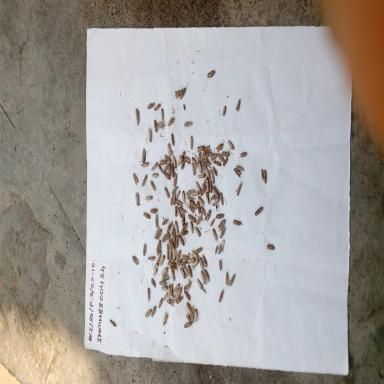pbw: (228, 270, 237, 290), (142, 208, 153, 224), (147, 125, 155, 147), (182, 118, 194, 132), (171, 278, 180, 296), (165, 116, 175, 132), (162, 309, 169, 331), (192, 224, 202, 239), (236, 180, 244, 198), (186, 213, 198, 225), (204, 208, 213, 224), (148, 275, 158, 289), (140, 160, 150, 174), (191, 248, 201, 262), (172, 155, 180, 172), (134, 190, 142, 207), (175, 154, 184, 169), (182, 279, 191, 294), (195, 178, 204, 193), (192, 305, 199, 324), (232, 216, 243, 228), (148, 178, 158, 191), (202, 142, 212, 155), (131, 253, 141, 266), (182, 151, 192, 164), (168, 130, 176, 146), (180, 220, 188, 236), (163, 185, 171, 201), (204, 190, 212, 206), (140, 172, 148, 188), (213, 241, 222, 255), (202, 165, 211, 179), (227, 136, 236, 150), (189, 135, 195, 156), (234, 98, 241, 116), (161, 167, 170, 181), (207, 66, 216, 80), (161, 230, 170, 244), (218, 192, 226, 207), (156, 161, 164, 176), (215, 140, 225, 152), (217, 288, 225, 303), (143, 308, 153, 320), (218, 218, 228, 230), (146, 99, 156, 111), (171, 226, 177, 246), (180, 266, 187, 283), (180, 188, 187, 205), (262, 166, 268, 185), (209, 166, 215, 185), (195, 160, 203, 174), (186, 300, 194, 314), (222, 156, 230, 170), (210, 148, 218, 162), (195, 276, 202, 292), (218, 150, 226, 164), (155, 239, 162, 255), (220, 225, 227, 241), (195, 142, 206, 152), (266, 242, 276, 253), (232, 168, 243, 178), (235, 163, 246, 173), (214, 211, 225, 221), (146, 285, 152, 303), (210, 190, 219, 202), (175, 294, 184, 306), (169, 189, 175, 207), (200, 270, 206, 288), (203, 268, 209, 286), (177, 204, 186, 216), (198, 256, 204, 274), (181, 250, 190, 262), (174, 169, 180, 187), (172, 200, 178, 218), (166, 142, 173, 157), (188, 222, 195, 237), (180, 157, 187, 172), (157, 294, 164, 309), (174, 220, 181, 235), (199, 204, 207, 217), (192, 258, 200, 271), (175, 288, 183, 301), (211, 184, 219, 197), (140, 147, 146, 164), (160, 265, 170, 275), (146, 254, 156, 264), (180, 228, 190, 238), (188, 199, 198, 209), (163, 153, 173, 163), (156, 120, 166, 130), (175, 204, 182, 218), (196, 213, 203, 227), (212, 228, 219, 242), (184, 288, 191, 302), (221, 103, 227, 119), (184, 312, 192, 324), (212, 195, 220, 207), (175, 248, 181, 264), (167, 236, 175, 248), (180, 210, 186, 226), (151, 159, 159, 171), (170, 267, 176, 283), (210, 166, 218, 178), (200, 184, 207, 197), (167, 254, 174, 267), (152, 226, 159, 239), (179, 148, 186, 161), (178, 234, 185, 247), (224, 269, 230, 284), (185, 186, 194, 196), (160, 253, 166, 268), (167, 297, 176, 307), (260, 164, 265, 182), (166, 220, 172, 235), (162, 273, 171, 283), (150, 206, 158, 217), (167, 260, 178, 268), (195, 244, 203, 255), (196, 198, 207, 206), (165, 242, 170, 259), (162, 289, 169, 301), (218, 258, 224, 272), (172, 182, 178, 196), (200, 155, 207, 167), (191, 155, 197, 169), (157, 228, 163, 242), (160, 284, 169, 293), (180, 259, 189, 268), (144, 194, 154, 202), (151, 303, 156, 319), (160, 106, 164, 126), (240, 150, 248, 160), (160, 157, 168, 167), (213, 158, 221, 168), (196, 172, 206, 180), (188, 204, 196, 214), (161, 216, 169, 226), (188, 263, 192, 283), (204, 149, 214, 157), (202, 255, 208, 268), (191, 189, 202, 196), (176, 197, 183, 208), (154, 101, 161, 112), (186, 256, 195, 264), (171, 248, 177, 260), (184, 320, 193, 328), (152, 267, 158, 279), (154, 211, 158, 229), (142, 241, 147, 255), (169, 283, 174, 297), (222, 149, 232, 156), (207, 178, 211, 195), (197, 147, 201, 164), (153, 260, 159, 271), (210, 216, 216, 227), (176, 256, 182, 267), (154, 118, 158, 134), (187, 194, 195, 202), (151, 171, 159, 179), (159, 280, 168, 287), (176, 189, 181, 201), (196, 199, 200, 214), (192, 162, 196, 176)
